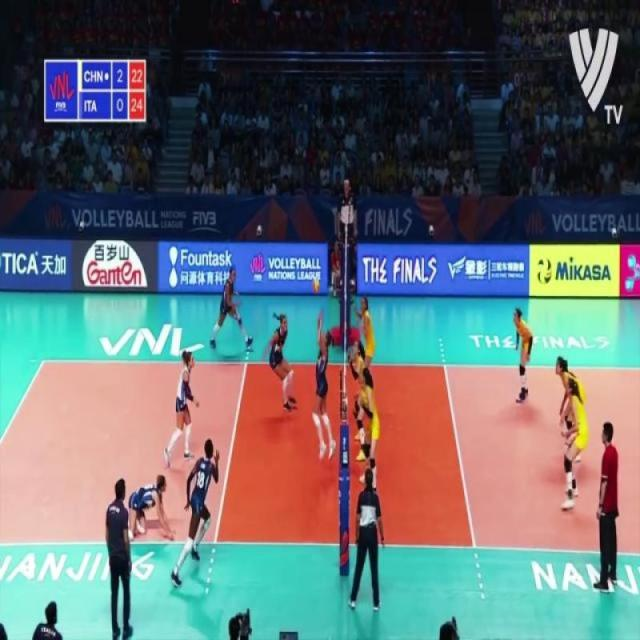volleyball: (536, 258, 552, 286), (313, 278, 321, 296)
